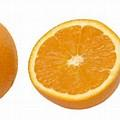orange: (30, 20, 120, 109)
